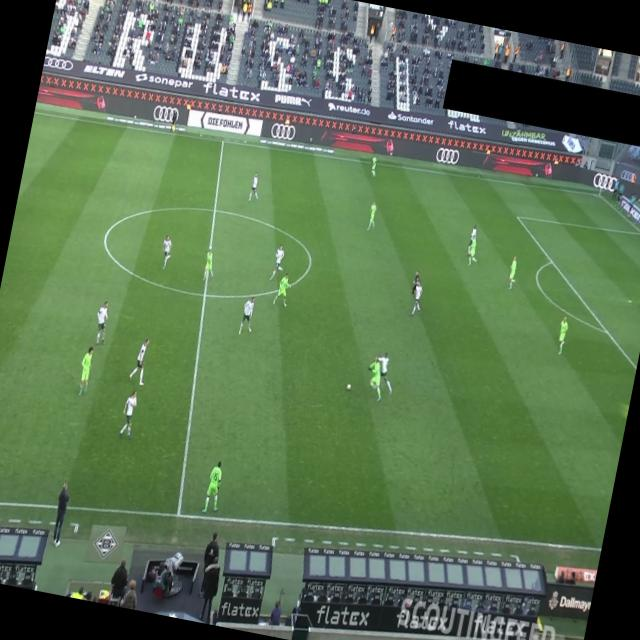ball: (346, 383, 352, 391)
player: (202, 460, 228, 516), (371, 351, 399, 398), (128, 336, 154, 386), (362, 354, 389, 402), (118, 389, 140, 440), (76, 345, 96, 397), (91, 299, 112, 346), (238, 294, 259, 337), (272, 270, 294, 308), (268, 243, 288, 283), (409, 280, 427, 319), (202, 245, 220, 282), (158, 233, 175, 270), (555, 316, 570, 356), (465, 235, 482, 268), (466, 224, 481, 258), (506, 255, 519, 291), (366, 199, 380, 232), (248, 172, 263, 202), (368, 153, 380, 179)
referee: (408, 270, 424, 302), (168, 108, 180, 135)
